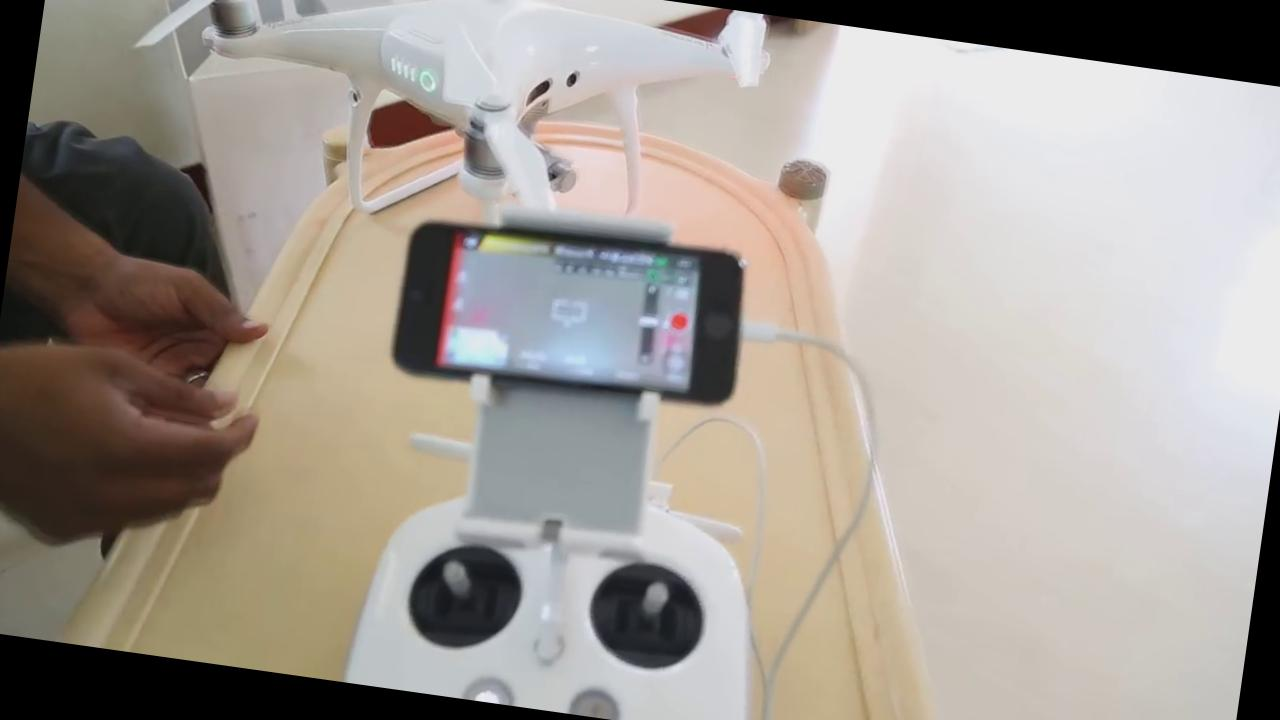drone: (104, 0, 796, 315)
